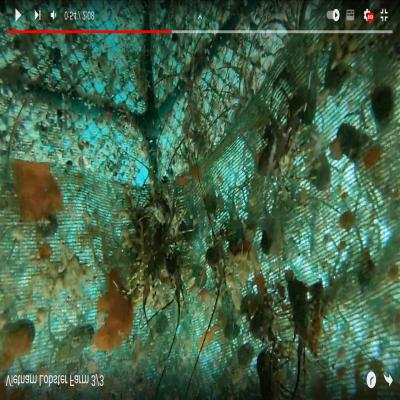lobster: (289, 273, 311, 344), (252, 354, 284, 396), (203, 234, 228, 280)
